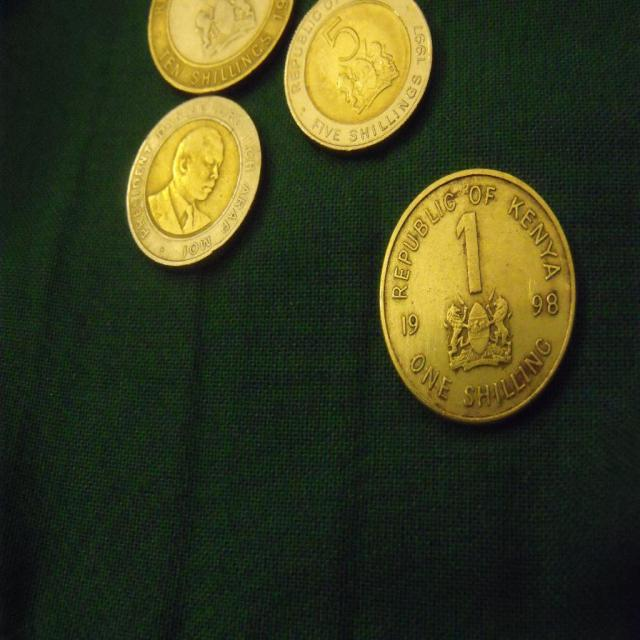Coin: (375, 168, 578, 421), (282, 0, 435, 154), (125, 96, 264, 265), (148, 0, 295, 91)
